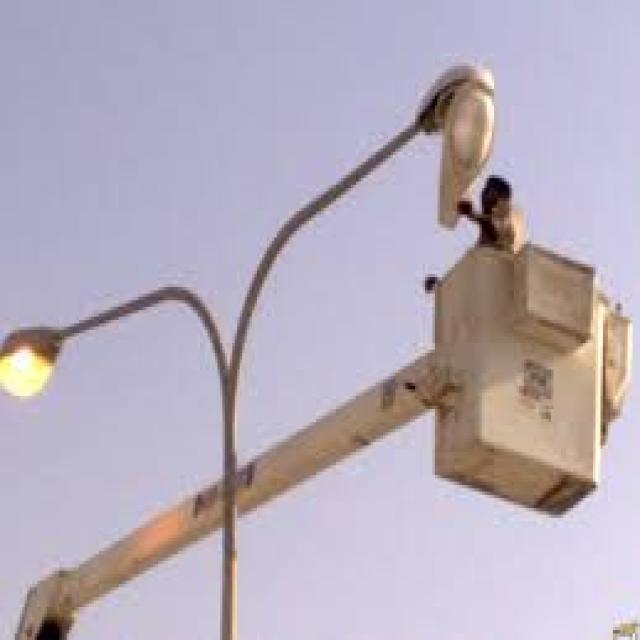Street Light: (3, 49, 494, 640)
